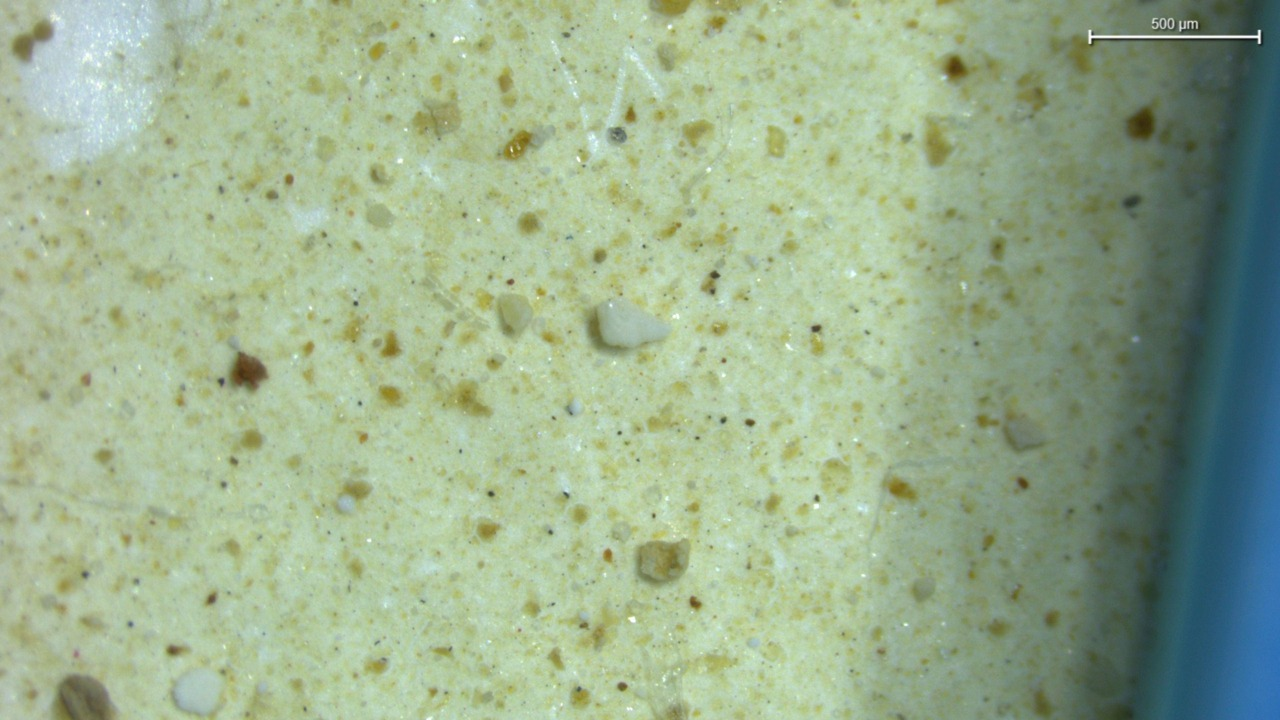microplastic_fragment: (597, 297, 671, 348), (637, 540, 690, 583), (496, 294, 532, 336)
